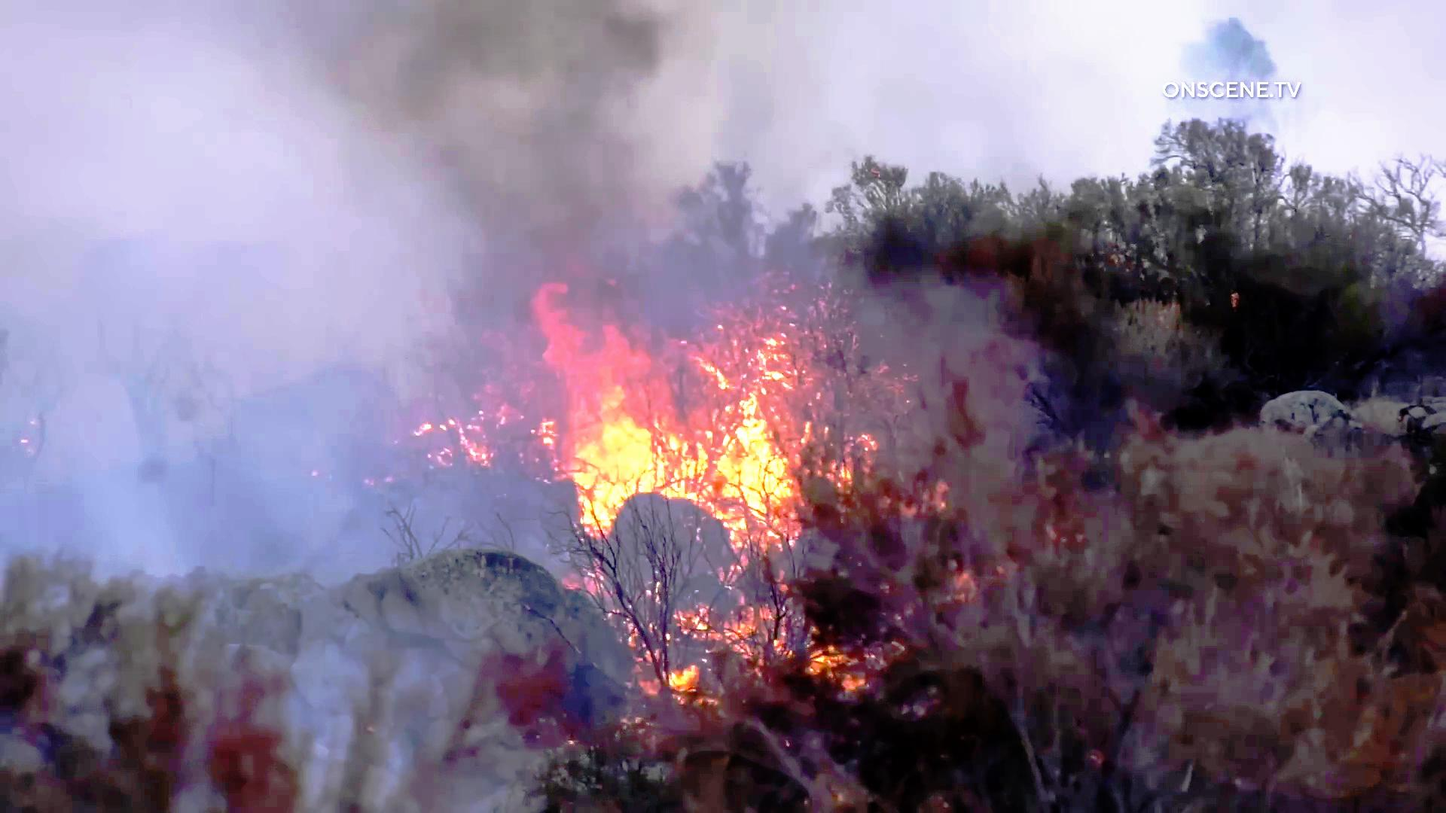fire: (545, 301, 799, 515)
smoke: (138, 0, 656, 285)
